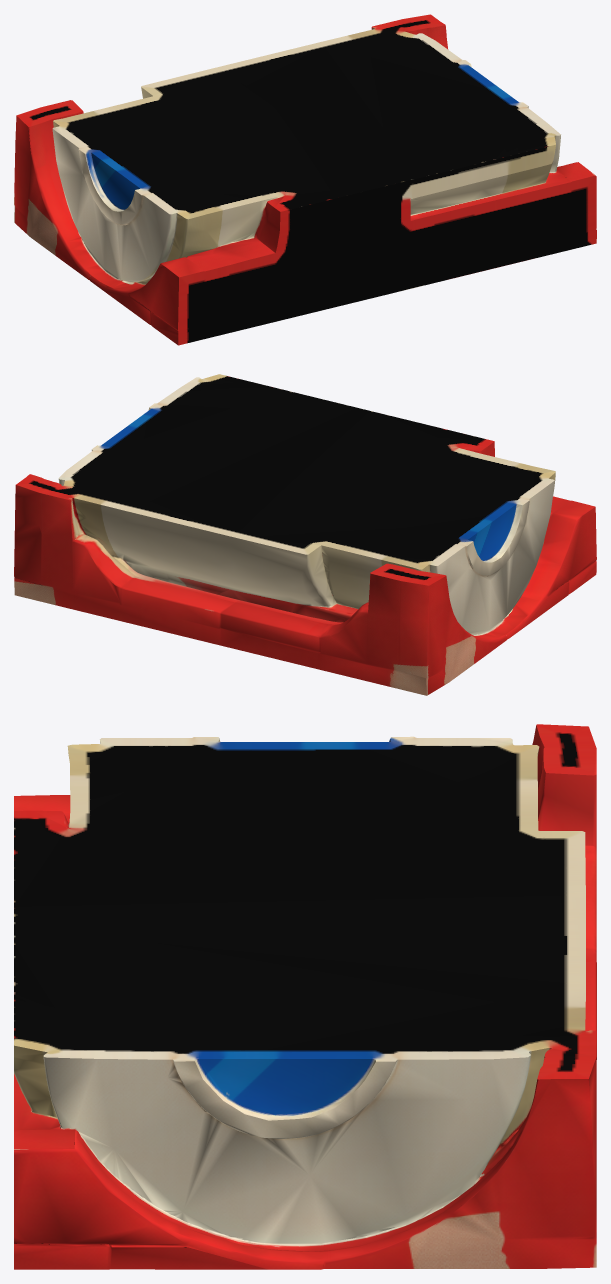
File: 6-upper-walls-back.fbx
3 renders of one model, top to bottom at view 1: azimuth 30°, elevation 25°; view 2: azimuth 150°, elevation 25°; view 3: azimuth 270°, elevation 25°, orthographic. The views are drawn at different scales.
Parts seen in each view (by area): view 1: upper-walls-back; view 2: upper-walls-back; view 3: upper-walls-back.
Part boxes in pixels (left/top/right/bottom): upper-walls-back: left=14, top=14, right=596, bottom=345; upper-walls-back: left=14, top=374, right=596, bottom=695; upper-walls-back: left=14, top=724, right=596, bottom=1269.
Size of the model in its own units: 8277 by 2051 by 5716.
1 material, 1 textured.
